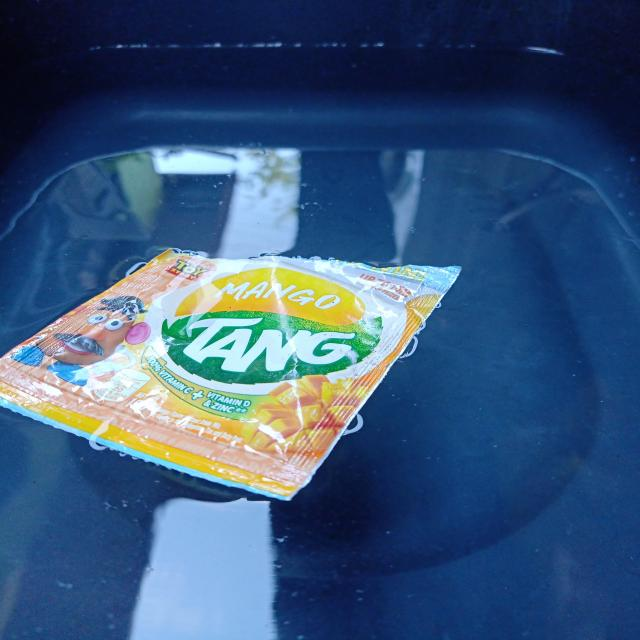Plastic Wrapper: (0, 235, 486, 516)
